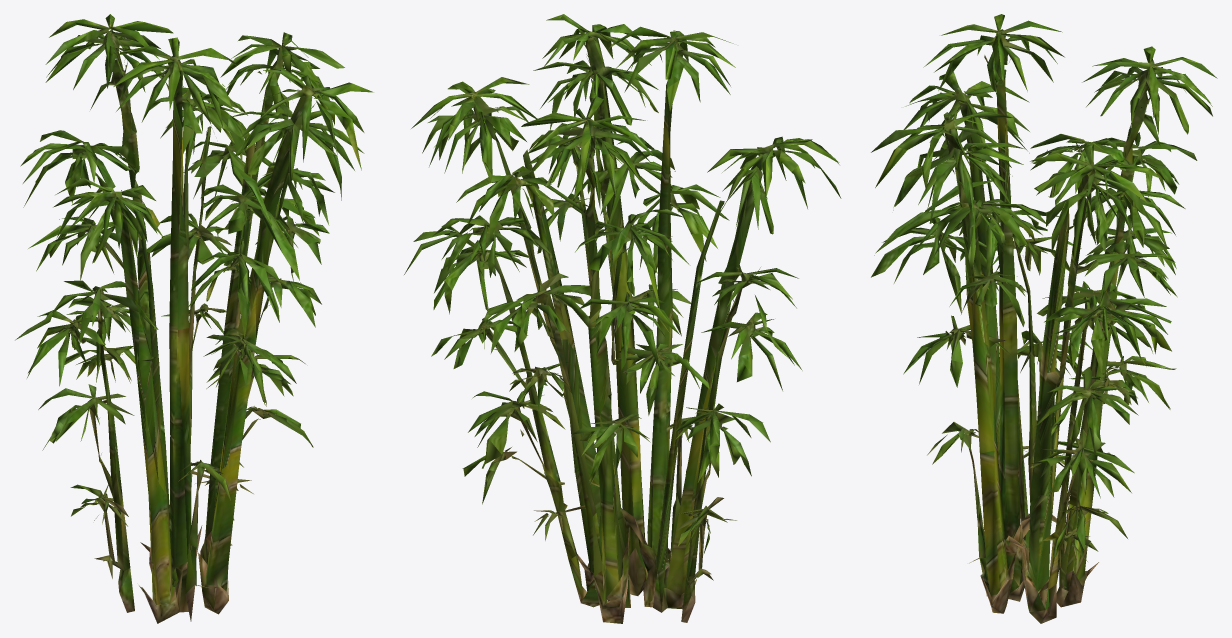
File: bambu.glb
The picture shows the model from 3 angles, left to right: view 1: azimuth 30°, elevation 25°; view 2: azimuth 150°, elevation 25°; view 3: azimuth 270°, elevation 25°; orthographic projection.
Parts seen in each view (by area): view 1: bambu; view 2: bambu; view 3: bambu.
Boxes of the visible parts, box(x1,y1,x2,y2) form: bambu: box(15, 14, 373, 623); bambu: box(404, 14, 841, 623); bambu: box(871, 14, 1217, 623).
Bounding box in the file's own units: 4.41 × 7 × 3.88.
Materials: 1 (1 with a texture image).
